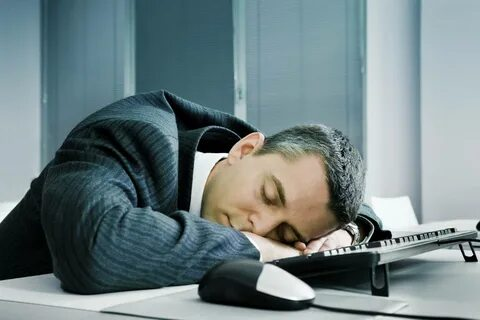sleep: (6, 89, 377, 291)
